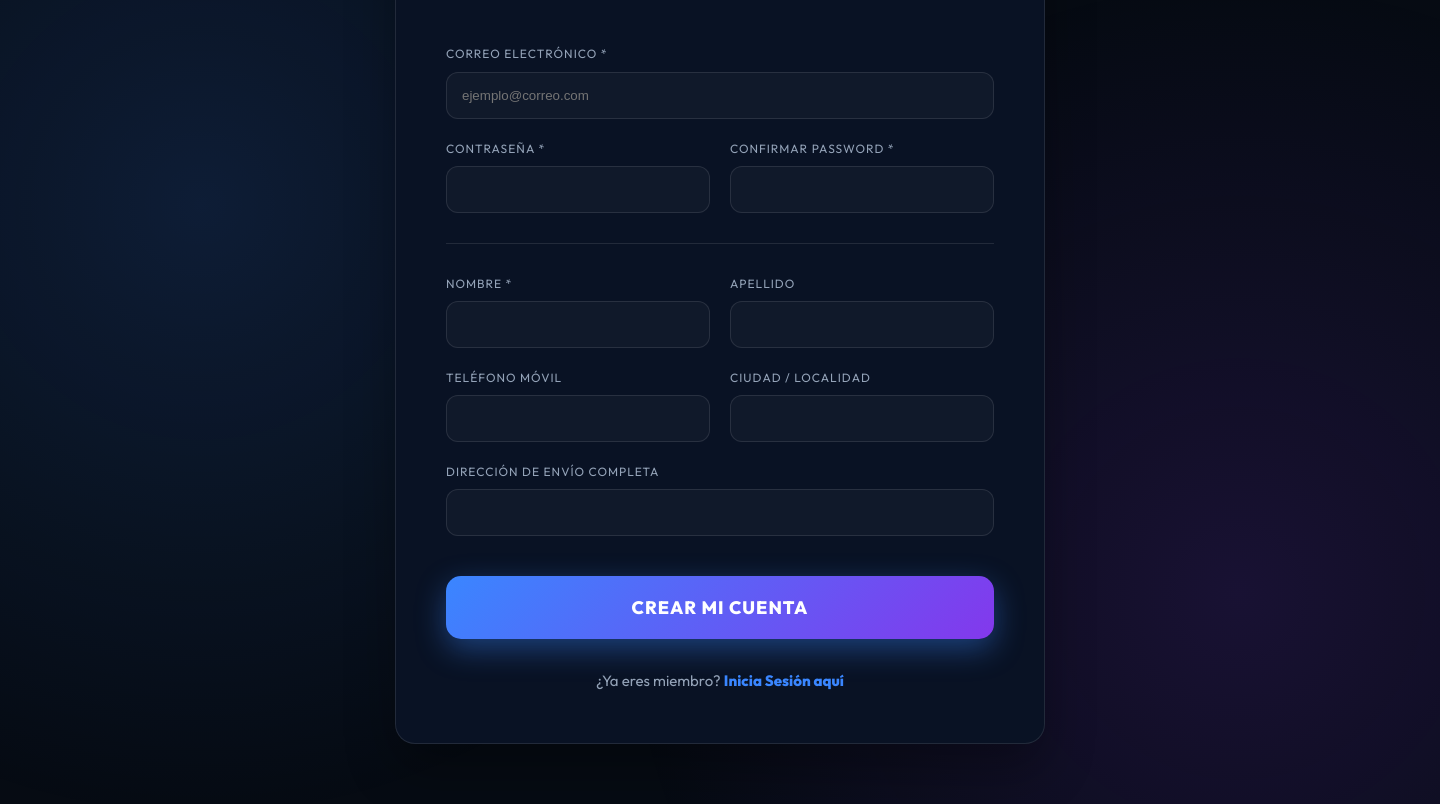
Scenario: Register Component › Form Validation › does not submit form when required fields are empty
(page scrolled)
Click the button "Crear Mi Cuenta".
click(720, 608)  # box [446,576,994,639]
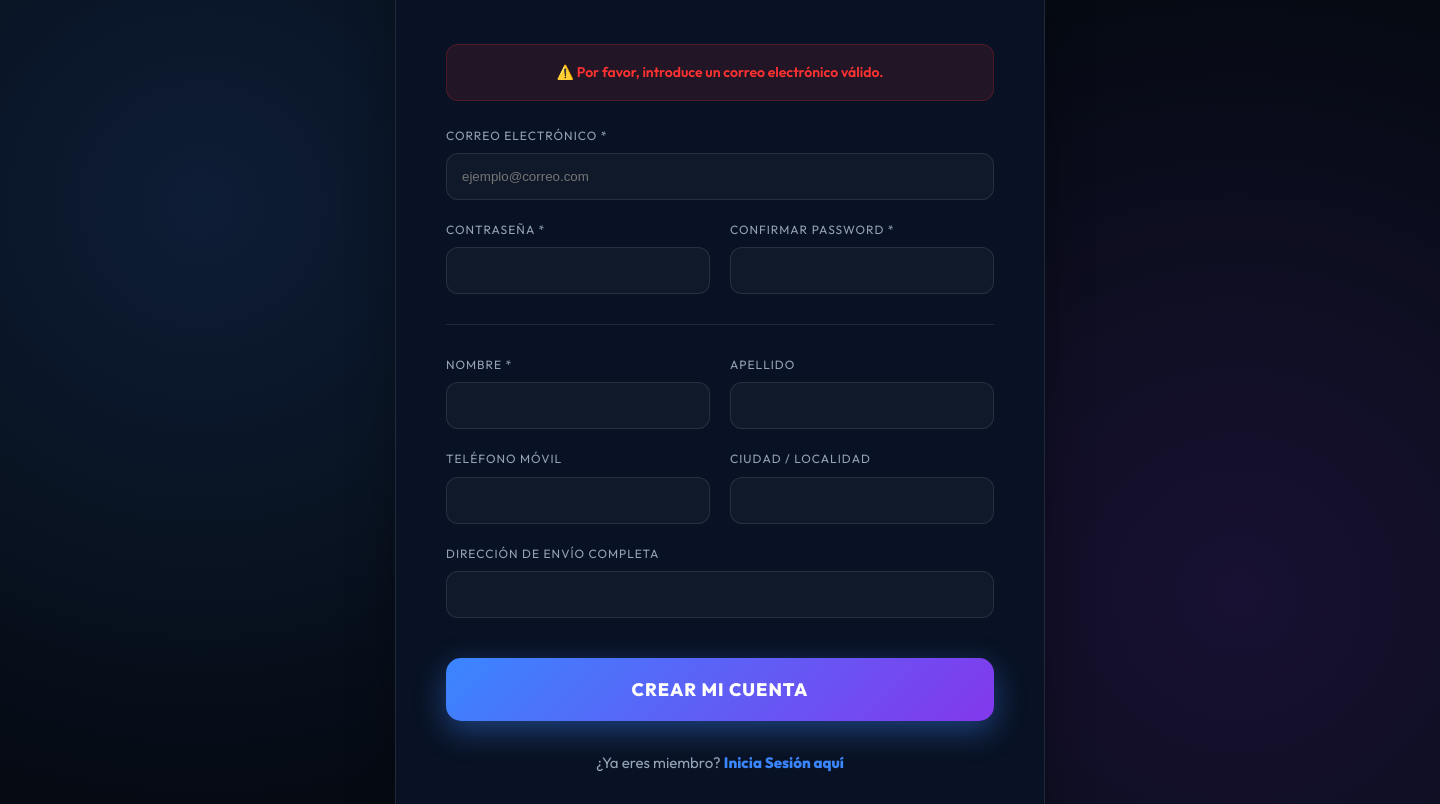
Result: the text "⚠️ Por favor, introduce un correo electrónico válido." is shown at [446,44,994,101]
